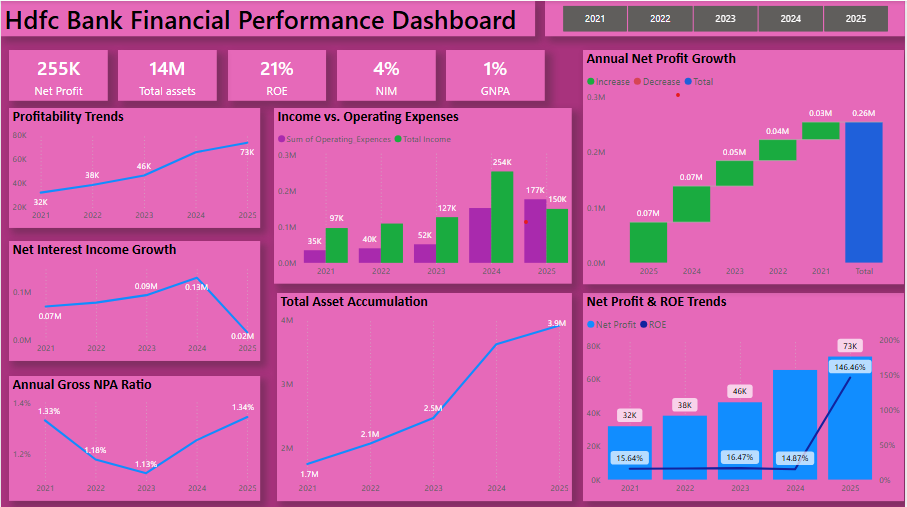

The dashboard page shown, as its layout file describes it:
{"tool":"powerbi","page":{"name":"Page 1","canvas":[1280,720],"ordinal":0},"visuals":[{"type":"textbox","title":"Hdfc Bank Financial Performance Dashboard","box":[0,0,756.9,49.6],"z":2000},{"type":"card","fields":{"Values":["Balancesheet_Data.ROE"]},"box":[321.7,69.4,138.9,72.3],"z":3000},{"type":"card","fields":{"Values":["Balancesheet_Data.Net Profit"]},"box":[11.3,69.4,140.3,72.3],"z":4000},{"type":"card","fields":{"Values":["Balancesheet_Data.Total assets"]},"box":[165.8,69.4,140.3,72.3],"z":5000},{"type":"card","fields":{"Values":["Balancesheet_Data.NIM"]},"box":[476.2,69.4,140.3,72.3],"z":6000},{"type":"card","fields":{"Values":["Balancesheet_Data.GNPA"]},"box":[630.7,69.4,140.3,72.3],"z":7000},{"type":"lineChart","title":"Profitability Trends","fields":{"Category":["Balancesheet_Data.Year_Sort"],"Y":["Balancesheet_Data.Net Profit"]},"box":[11.3,151.7,355.7,170.1],"z":8000},{"type":"lineChart","title":"Net Interest Income Growth","fields":{"Category":["Balancesheet_Data.Year_Sort"],"Y":["Sum(P&L_Data.NII)"]},"box":[11.5,339.8,355.7,169.9],"z":9000},{"type":"clusteredColumnChart","title":"Income vs. Operating Expenses","fields":{"Y":["Sum(P&L_Data.Operating_Expences)","P&L_Data.Total Income"],"Category":["P&L_Data.Year_Sort"]},"box":[386.9,151.7,422.4,249.4],"z":10000},{"type":"lineChart","title":"Total Asset Accumulation","fields":{"Category":["Balancesheet_Data.Year_Sort"],"Y":["Balancesheet_Data.Total assets"]},"box":[391.2,413.9,418.1,294.8],"z":11000},{"type":"lineChart","title":"Annual Gross NPA Ratio","fields":{"Category":["Balancesheet_Data.Year_Sort"],"Y":["Balancesheet_Data.GNPA"]},"box":[11.3,531.5,355.7,177.2],"z":12000},{"type":"lineClusteredColumnComboChart","title":"Net Profit & ROE Trends","fields":{"Category":["Balancesheet_Data.Year_Sort"],"Y":["Balancesheet_Data.Net Profit"],"Y2":["Balancesheet_Data.ROE"]},"box":[824.9,413.9,455,294.8],"z":13000},{"type":"waterfallChart","title":"Annual Net Profit Growth","fields":{"Category":["Balancesheet_Data.Year_Sort"],"Y":["Balancesheet_Data.Net Profit"]},"box":[824.9,69.4,455,331.7],"z":14000},{"type":"slicer","fields":{"Values":["Balancesheet_Data.Year_Sort"]},"box":[771,0,510.2,49.6],"z":15000}]}

Visuals, with their boxes in screenshot pixels (x1, y1, x2, y2), scaled from the page's 1280x720 canvas onto the 907x507 screenshot:
"Hdfc Bank Financial Performance Dashboard" textbox: region(0, 0, 536, 35)
card - Balancesheet_Data.ROE: region(228, 49, 326, 100)
card - Balancesheet_Data.Net Profit: region(8, 49, 107, 100)
card - Balancesheet_Data.Total assets: region(117, 49, 217, 100)
card - Balancesheet_Data.NIM: region(337, 49, 437, 100)
card - Balancesheet_Data.GNPA: region(447, 49, 546, 100)
"Profitability Trends" lineChart: region(8, 107, 260, 227)
"Net Interest Income Growth" lineChart: region(8, 239, 260, 359)
"Income vs. Operating Expenses" clusteredColumnChart: region(274, 107, 573, 282)
"Total Asset Accumulation" lineChart: region(277, 291, 573, 499)
"Annual Gross NPA Ratio" lineChart: region(8, 374, 260, 499)
"Net Profit & ROE Trends" lineClusteredColumnComboChart: region(585, 291, 906, 499)
"Annual Net Profit Growth" waterfallChart: region(585, 49, 906, 282)
slicer - Balancesheet_Data.Year_Sort: region(546, 0, 906, 35)
